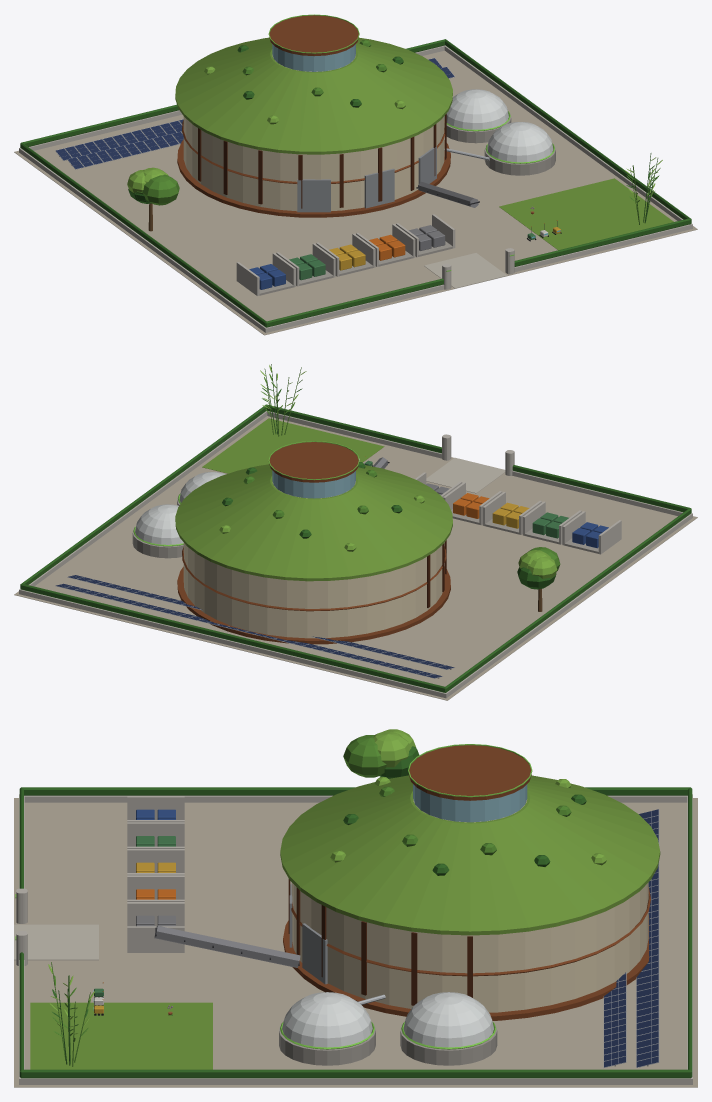
File: waste.glb
The picture shows the model from 3 angles, top to bottom: view 1: azimuth 30°, elevation 25°; view 2: azimuth 150°, elevation 25°; view 3: azimuth 270°, elevation 25°; orthographic projection. The views are drawn at different scales.
Parts seen in each view (by area): view 1: body, windows; view 2: body; view 3: body, windows.
Part boxes in pixels (x1,y1,x2,y2): body: (14,15,697,335); windows: (268,14,560,271); body: (14,364,697,700); body: (14,729,697,1087); windows: (15,744,532,1049).
Bounding box in the file's own units: 47.9 × 13.58 × 47.9.
